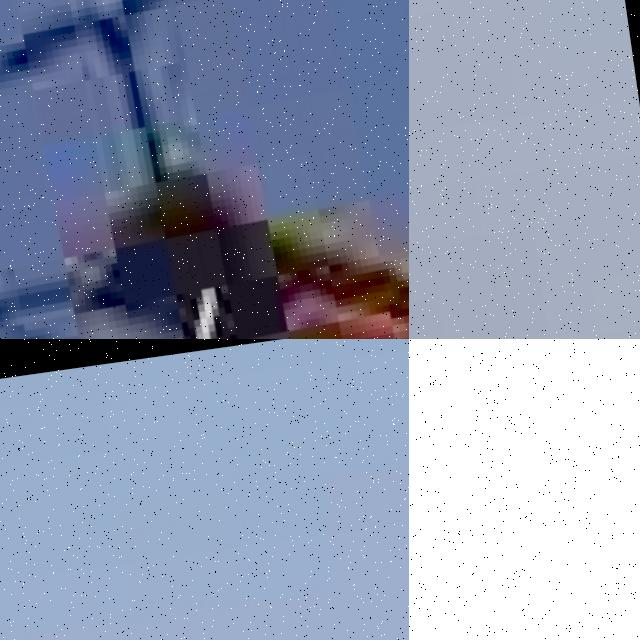0: (0, 0, 409, 339)
drone: (409, 339, 640, 640)
